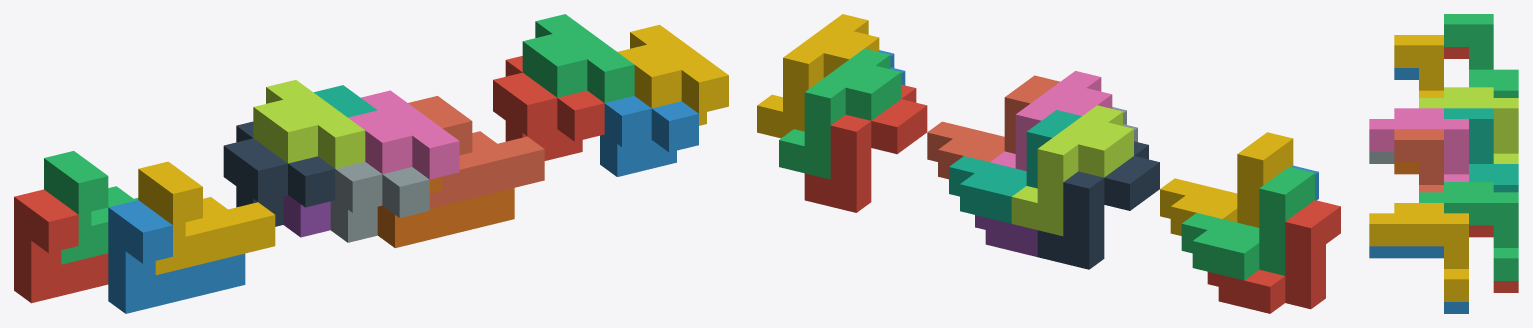
Rendered from tiling.obj.
3 renders of one model, left to right at view 1: azimuth 30°, elevation 25°; view 2: azimuth 150°, elevation 25°; view 3: azimuth 270°, elevation 25°, orthographic. The views are drawn at different scales.
Parts seen in each view (by area): view 1: copy_1_domain_2, copy_1_domain_4, copy_1_domain_1, copy_2_domain_3, copy_2_domain_7, copy_2_domain_5, copy_1_domain_8, copy_2_domain_8, copy_2_domain_4, copy_2_domain_6, copy_2_domain_1, copy_2_domain_2 (+4 smaller); view 2: copy_1_domain_3, copy_2_domain_7, copy_2_domain_3, copy_2_domain_5, copy_2_domain_1, copy_1_domain_1, copy_1_domain_4, copy_2_domain_8, copy_1_domain_7, copy_1_domain_8, copy_2_domain_4, copy_1_domain_5; view 3: copy_2_domain_8, copy_2_domain_7, copy_2_domain_4, copy_1_domain_3, copy_2_domain_3, copy_1_domain_7, copy_1_domain_8, copy_1_domain_4, copy_2_domain_6, copy_2_domain_5, copy_1_domain_6, copy_2_domain_2 (+2 smaller).
Part boxes in pixels (left/top/right/bottom): copy_1_domain_2: left=108, top=200, right=245, bottom=313; copy_1_domain_4: left=138, top=161, right=275, bottom=275; copy_1_domain_1: left=14, top=189, right=108, bottom=303; copy_2_domain_3: left=253, top=80, right=365, bottom=168; copy_2_domain_7: left=522, top=14, right=634, bottom=102; copy_2_domain_5: left=493, top=56, right=604, bottom=160; copy_1_domain_8: left=408, top=96, right=544, bottom=208; copy_2_domain_8: left=618, top=24, right=728, bottom=125; copy_2_domain_4: left=348, top=90, right=459, bottom=179; copy_2_domain_6: left=600, top=96, right=698, bottom=176; copy_2_domain_1: left=223, top=121, right=335, bottom=226; copy_2_domain_2: left=330, top=161, right=429, bottom=242; copy_1_domain_3: left=1181, top=166, right=1314, bottom=280; copy_2_domain_7: left=779, top=48, right=901, bottom=179; copy_2_domain_3: left=1011, top=105, right=1133, bottom=236; copy_2_domain_5: left=804, top=84, right=927, bottom=212; copy_2_domain_1: left=1037, top=141, right=1159, bottom=269; copy_1_domain_1: left=1207, top=200, right=1340, bottom=313; copy_1_domain_4: left=1160, top=132, right=1293, bottom=235; copy_2_domain_8: left=757, top=14, right=879, bottom=138; copy_1_domain_7: left=949, top=110, right=1081, bottom=223; copy_1_domain_8: left=927, top=75, right=1059, bottom=179; copy_2_domain_4: left=990, top=71, right=1112, bottom=171; copy_1_domain_5: left=975, top=215, right=1037, bottom=256; copy_2_domain_8: left=1369, top=203, right=1468, bottom=301; copy_2_domain_7: left=1419, top=182, right=1518, bottom=280; copy_2_domain_4: left=1369, top=108, right=1468, bottom=181; copy_1_domain_3: left=1444, top=14, right=1518, bottom=97; copy_2_domain_3: left=1419, top=87, right=1518, bottom=163; copy_1_domain_7: left=1444, top=108, right=1518, bottom=192; copy_1_domain_8: left=1394, top=129, right=1443, bottom=192; copy_1_domain_4: left=1394, top=35, right=1443, bottom=97; copy_2_domain_6: left=1369, top=246, right=1468, bottom=313; copy_2_domain_5: left=1469, top=225, right=1518, bottom=292; copy_1_domain_6: left=1394, top=162, right=1418, bottom=174; copy_2_domain_2: left=1369, top=152, right=1394, bottom=163.
Size of the model in its own units: 22 by 4 by 6.
